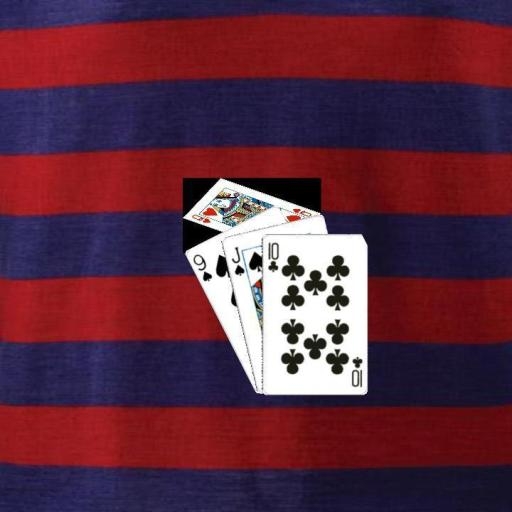card-corner: (189, 251, 213, 283), (228, 244, 246, 278), (264, 239, 280, 273), (348, 354, 364, 388)
